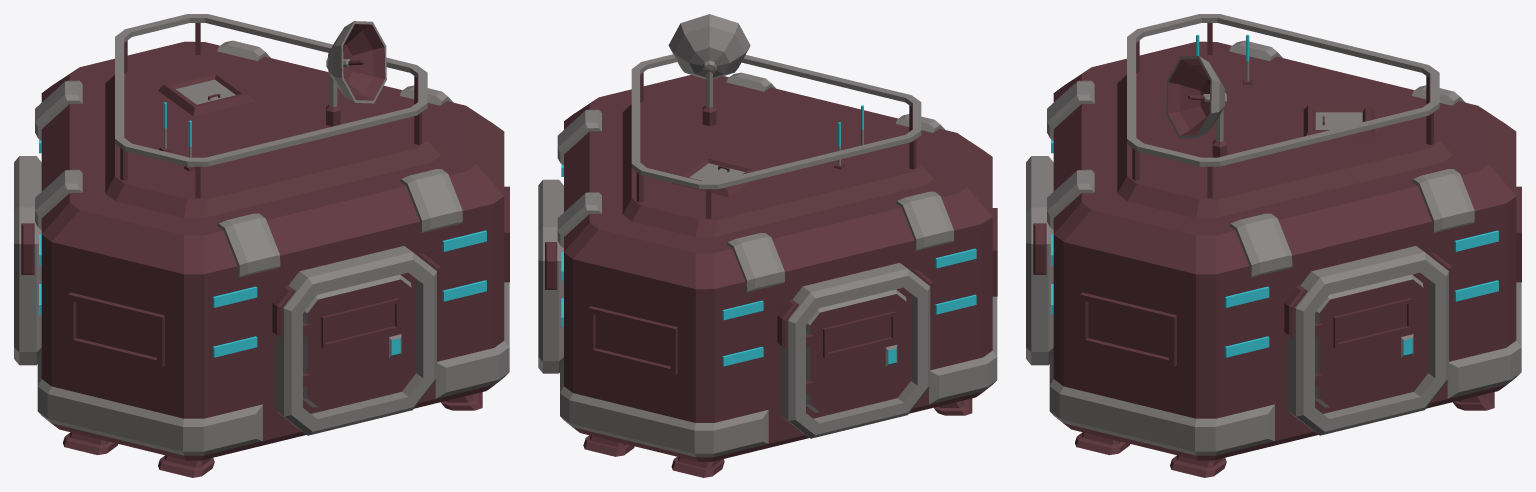
The model's file is scifi-planet-base-connector-tri.fbx.
3 views of the same model, side by side, from view 1: azimuth 30°, elevation 25°; view 2: azimuth 150°, elevation 25°; view 3: azimuth 270°, elevation 25° (orthographic). The views are drawn at different scales.
Visible parts, largest first — view 1: scifi-planet-base-connector-tri; view 2: scifi-planet-base-connector-tri; view 3: scifi-planet-base-connector-tri.
Part boxes in pixels (<box>): scifi-planet-base-connector-tri: <box>14,14,509,477</box>; scifi-planet-base-connector-tri: <box>538,14,997,477</box>; scifi-planet-base-connector-tri: <box>1026,14,1521,477</box>.
Bounding box in the file's own units: 9.62 × 7.14 × 8.95.
